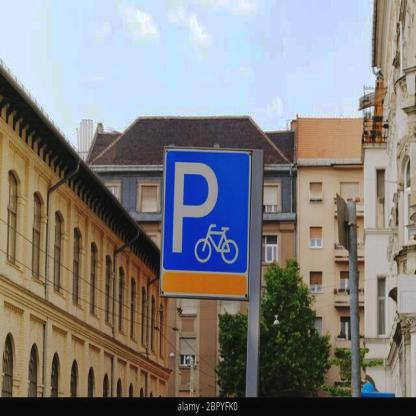Parking: (168, 147, 244, 269)
